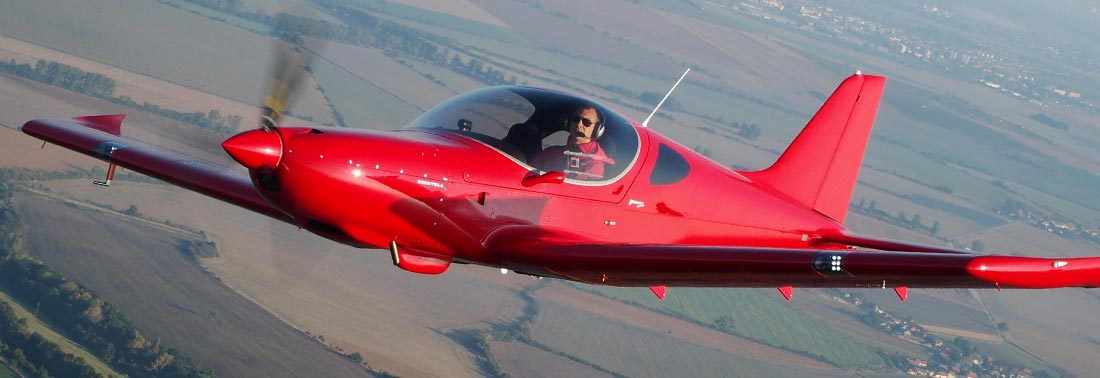aeroplane: (17, 62, 1088, 294)
